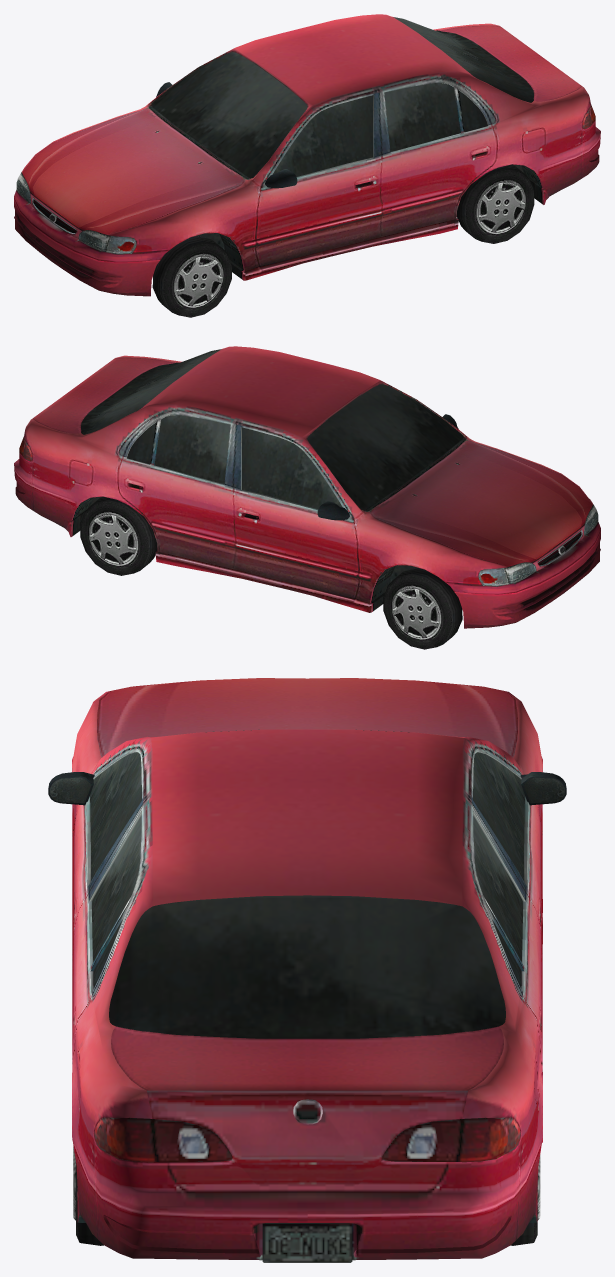
File: red_car.fbx
3 views of the same model, one above another, from view 1: azimuth 30°, elevation 25°; view 2: azimuth 150°, elevation 25°; view 3: azimuth 270°, elevation 25° (orthographic). The views are drawn at different scales.
Visible parts, largest first — view 1: red_car.001; view 2: red_car.001; view 3: red_car.001.
Part boxes in pixels (x1,y1,x2,y2): red_car.001: (14, 14, 600, 317); red_car.001: (14, 346, 600, 649); red_car.001: (48, 678, 566, 1262).
Bounding box in the file's own units: 5 × 1.6 × 2.16.
2 materials, 2 textured.
